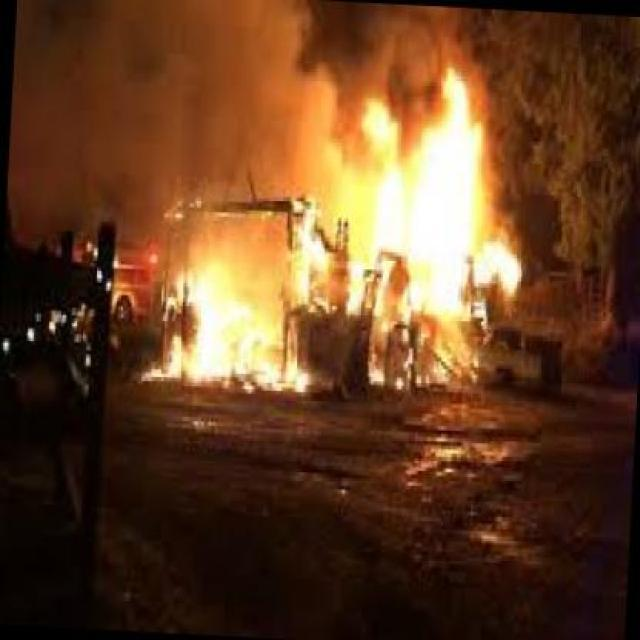Fire: (343, 70, 521, 373), (158, 192, 339, 394)
Smoke: (18, 7, 336, 188), (362, 8, 479, 68)
